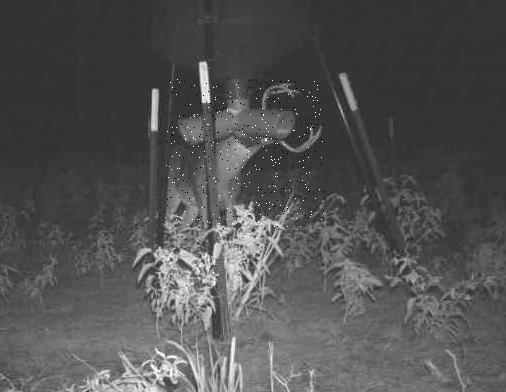Deer: (165, 79, 324, 229)
